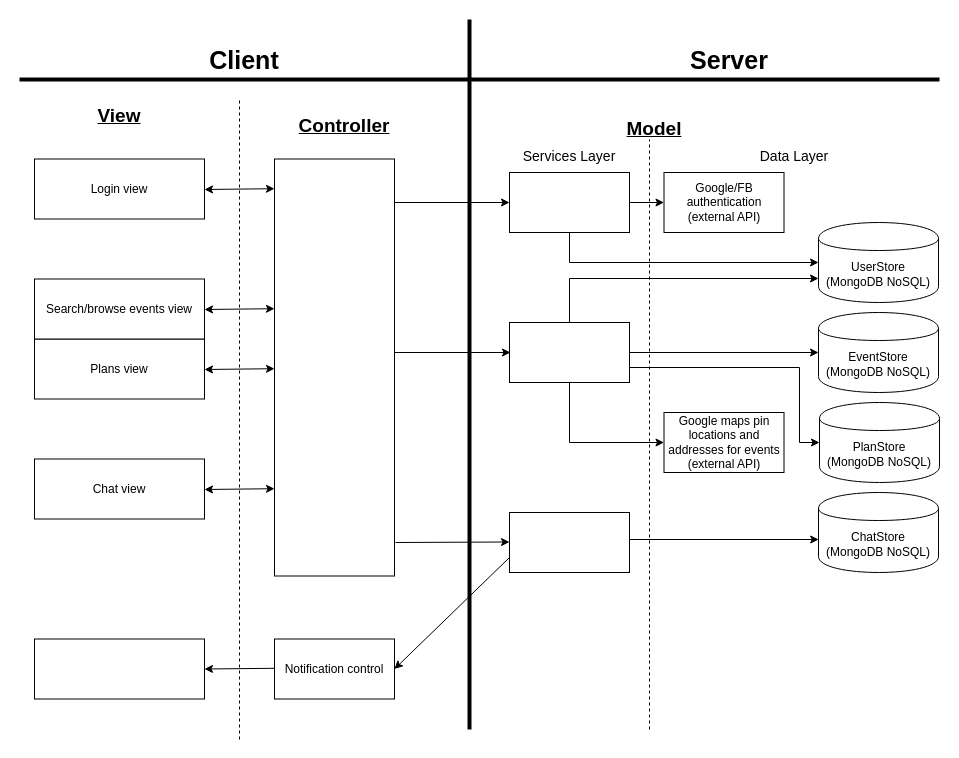
The diagram is 959 pixels wide and 758 high, and some of its shapes have lost their labels. Here are the shapes that lost their labels. From the top down, the centre of each, then its label:
the point at 569,202: Auth Handler
the point at 334,367: Server communication module
the point at 569,352: Search Engine (complex logic)
the point at 569,542: Chat Engine
the point at 119,668: Notifications center
